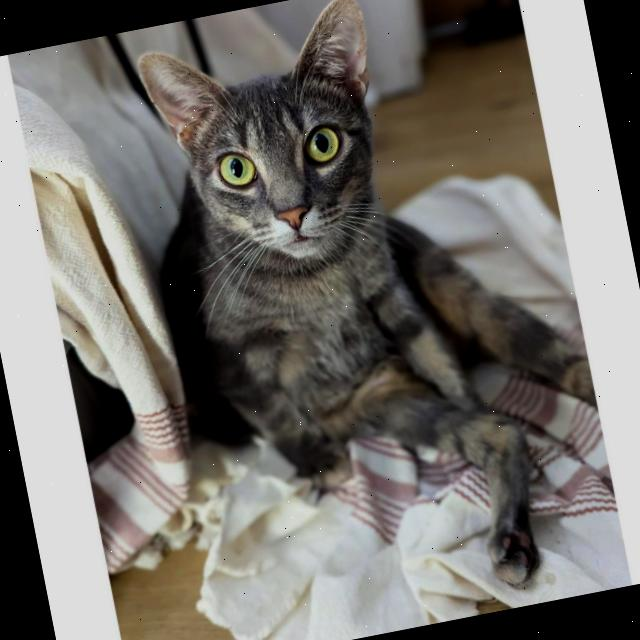manx_cat: (113, 0, 435, 303)
